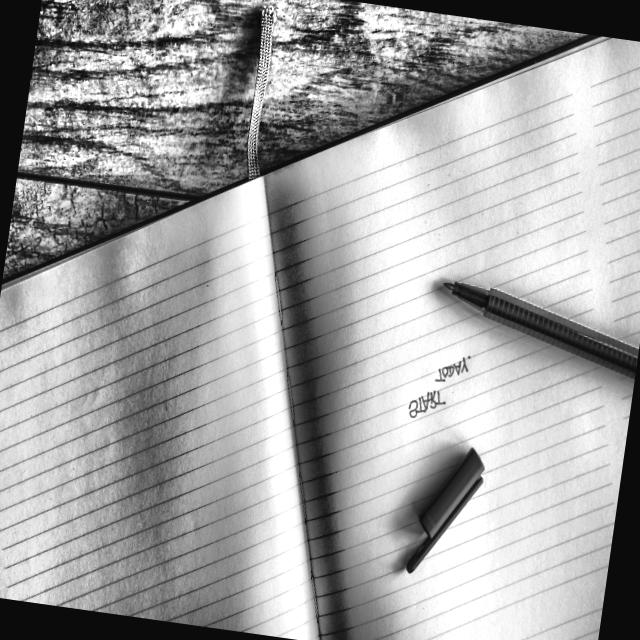Pen: (432, 271, 640, 388)
